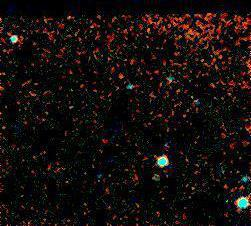star: (106, 62, 136, 92)
